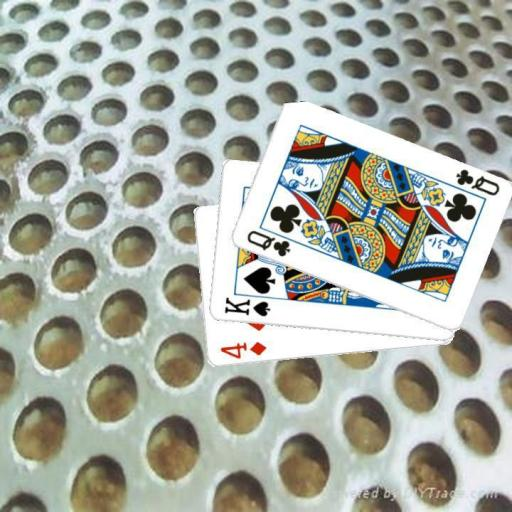card-corner: (452, 166, 502, 198), (243, 227, 292, 259), (220, 294, 272, 318), (217, 339, 267, 361)
